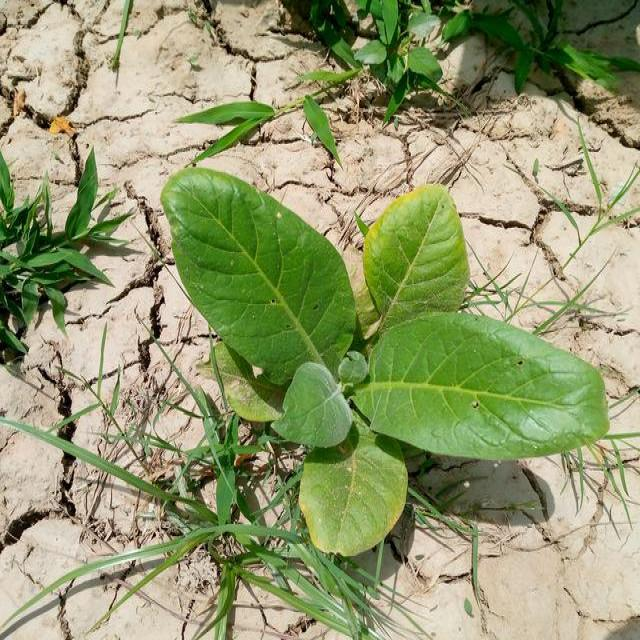crop: (160, 154, 612, 556)
